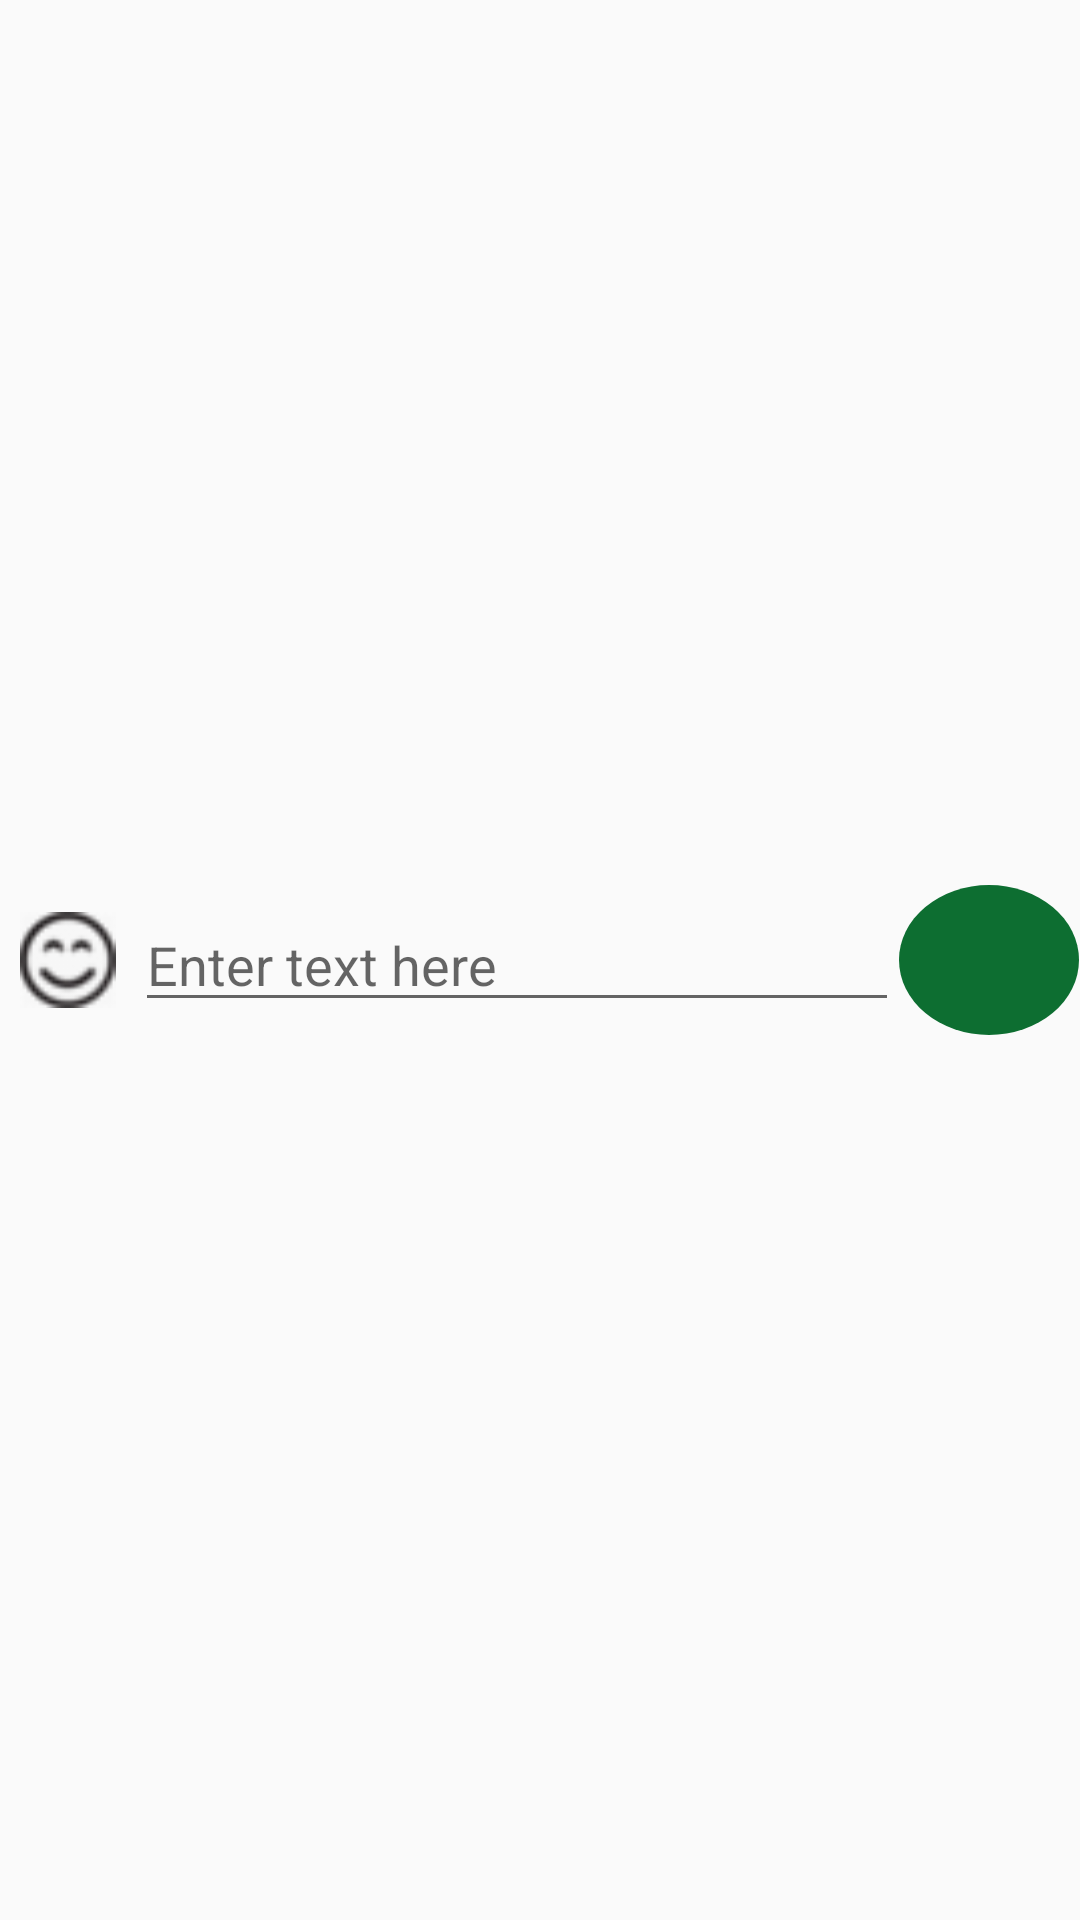

Icon click points for this 1080*1920 phone screenshot, format (x=x, y=y):
Emoticons Button: (x=68, y=960)
